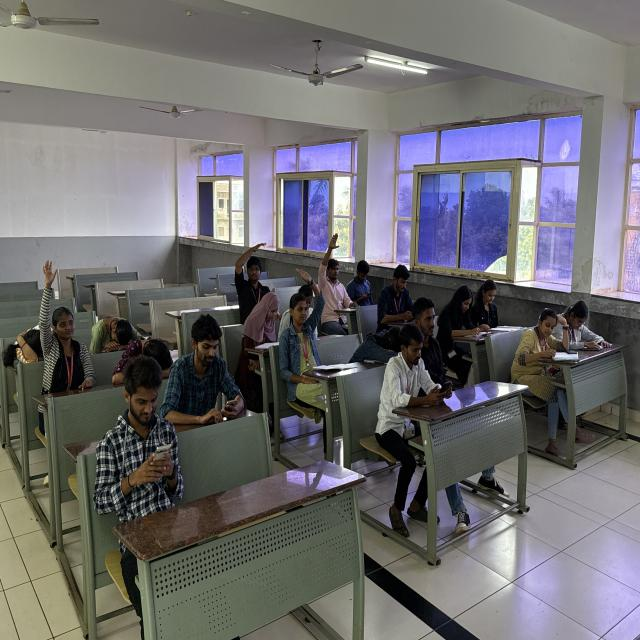Hand Rising: (30, 256, 97, 404), (317, 230, 356, 338), (284, 266, 324, 366), (234, 239, 274, 302)
Reading: (551, 297, 610, 355), (436, 282, 485, 340), (238, 290, 283, 353), (472, 277, 512, 340)
Sleeping: (120, 336, 180, 385), (89, 312, 142, 362)
Using Phone: (99, 360, 185, 515), (374, 321, 456, 439), (162, 312, 248, 421), (374, 263, 421, 326), (344, 256, 380, 304)
Writing: (515, 304, 577, 369)
